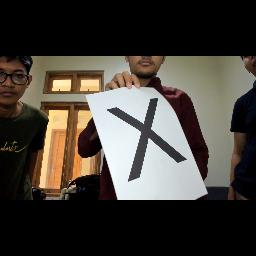x: (102, 92, 192, 184)
